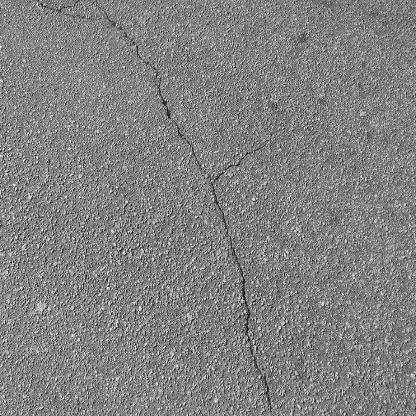Cracks: (15, 0, 285, 416)
